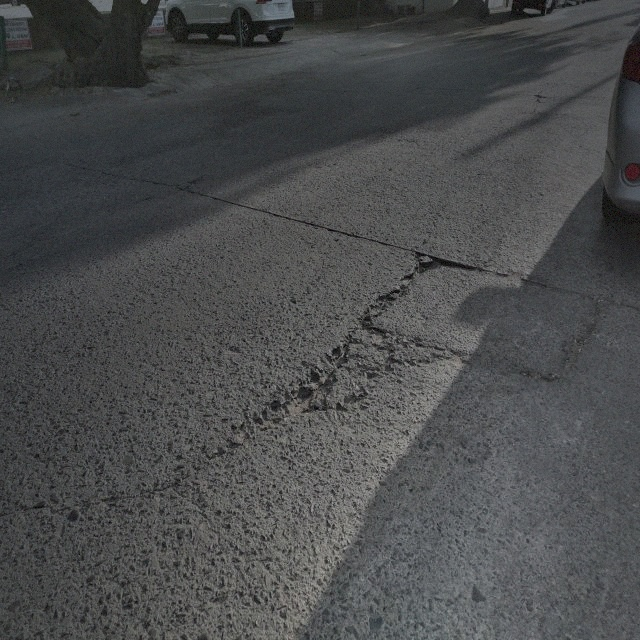pothole: (272, 342, 340, 427), (412, 241, 473, 288), (368, 318, 398, 372), (370, 284, 406, 317), (452, 347, 499, 369), (560, 337, 582, 378), (506, 264, 523, 282)
